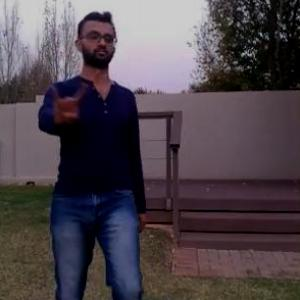takeoff-hand: (40, 74, 90, 126)
